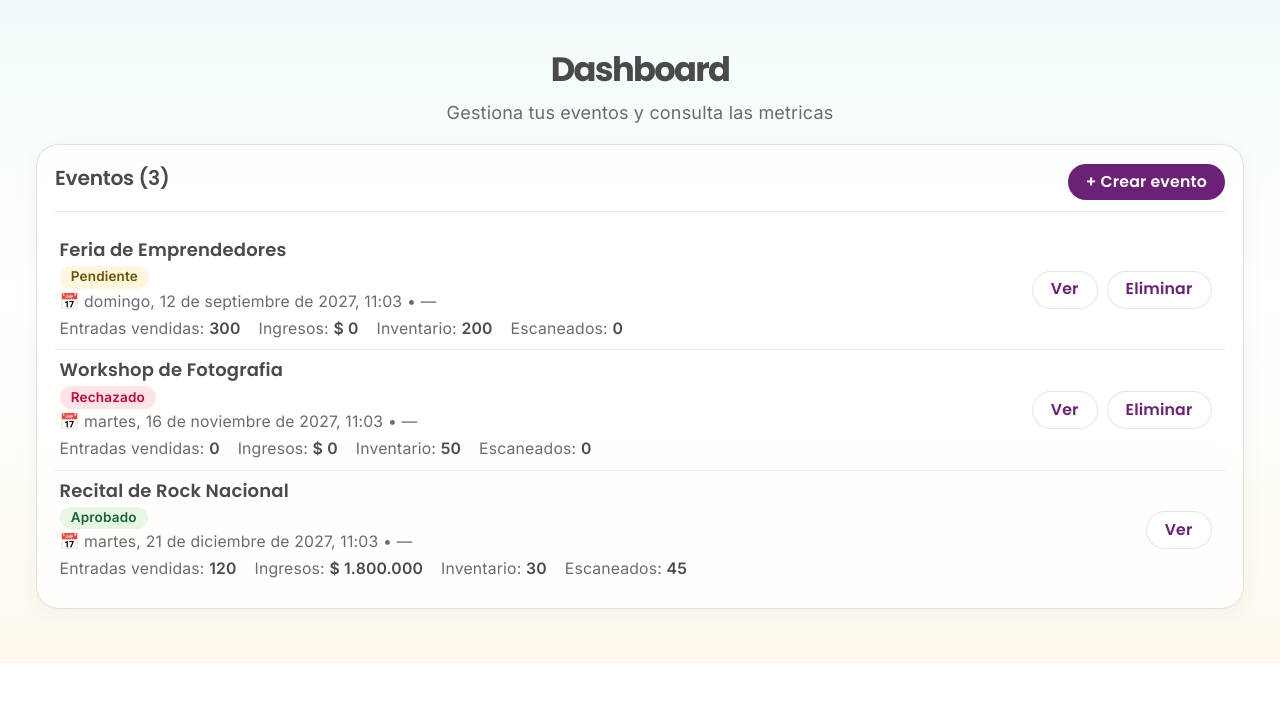
Test: OrganizerDashboard › asks for confirmation, deletes and reloads the list
The image size is (1280, 720).
Check: the heading "Feria de Emprendedores" is shown, box [60,237,287,262]
What coordinates should you click on to do the following:
click the button with aria-label "eliminar feria de emprendedores"
I would click on:
 (1159, 290)
Its box is [1107,271,1212,309].
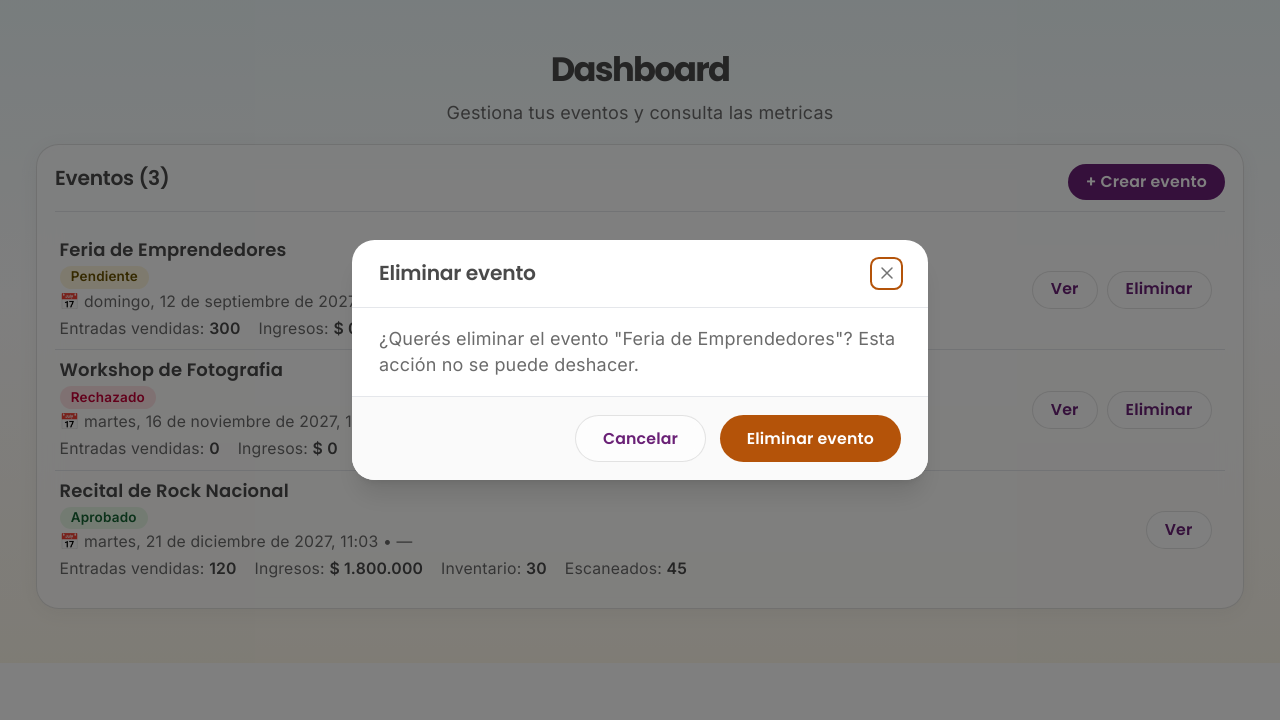
Check: the text "esta acción no se puede deshacer" is shown, box [379,328,895,375]
What coordinates should you click on to do the following:
click the button "Eliminar evento"
I would click on:
 (810, 439)
Its box is [720,415,901,462].
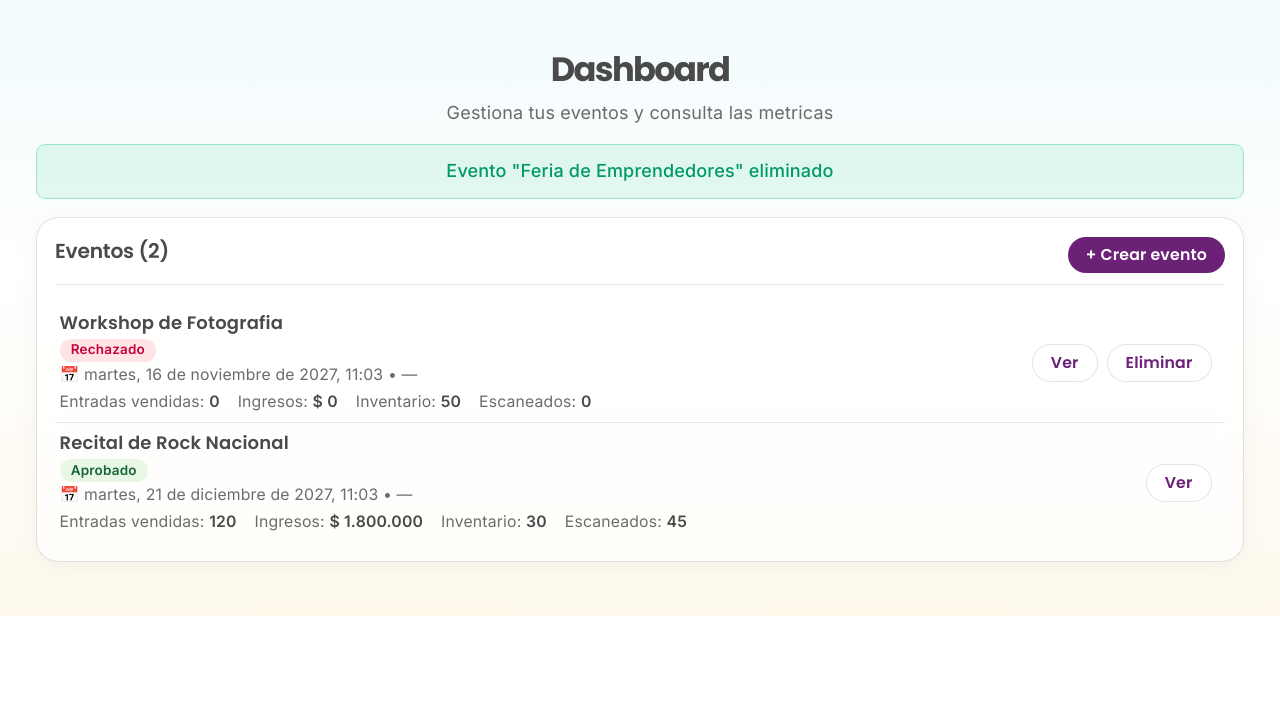
Check: the text "Evento \"Feria de Emprendedores\" eliminado" is shown, box [36,144,1244,199]
